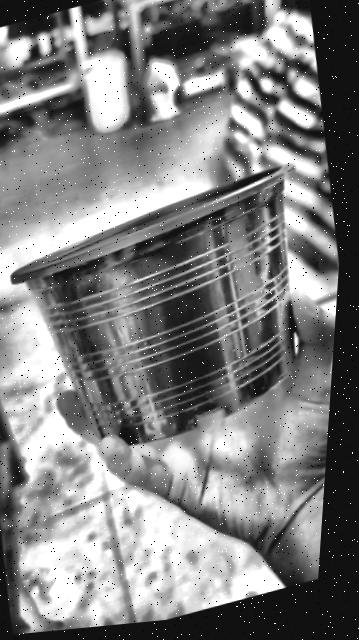pot: (11, 164, 293, 443)
